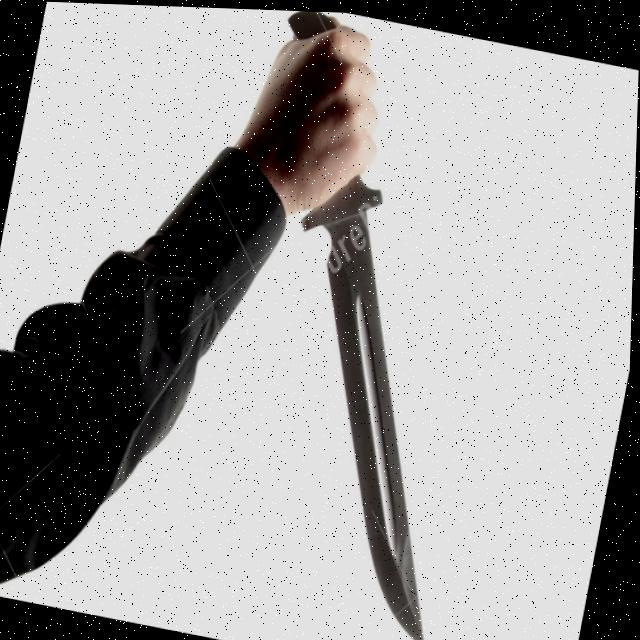knife: (237, 164, 521, 640)
